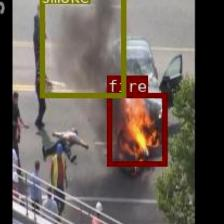fire: (107, 92, 166, 166)
smoke: (39, 0, 125, 97)
